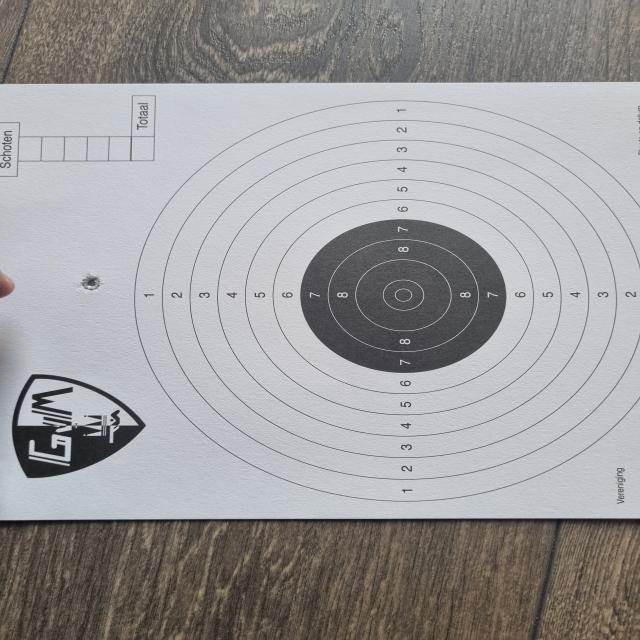0: (80, 273, 102, 291)
Target: (133, 100, 640, 502)
black_contour: (301, 220, 508, 374)
